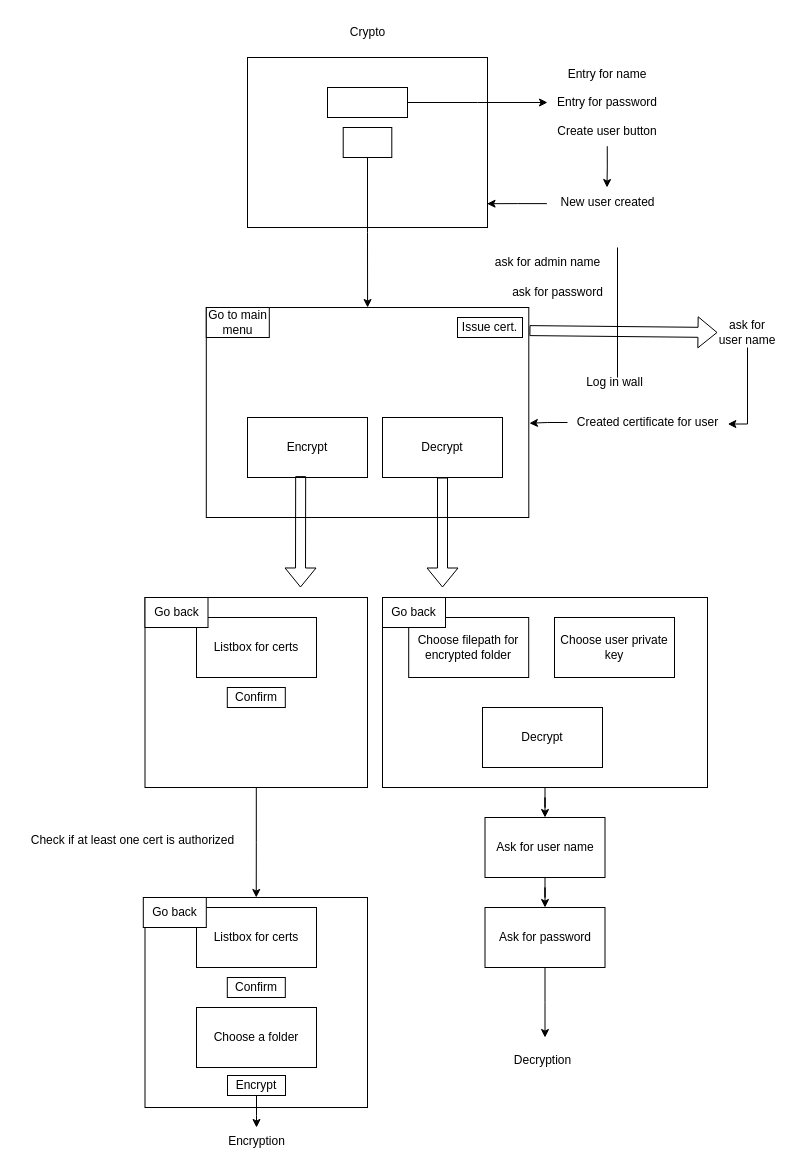
Some shapes in this 794 by 1173 pixel diagram are drawn without their labels. The centre of each missing label's shape, as x and y in pixels:
"Create new user" belongs at (x=367, y=102).
"Enter app" belongs at (x=367, y=142).
